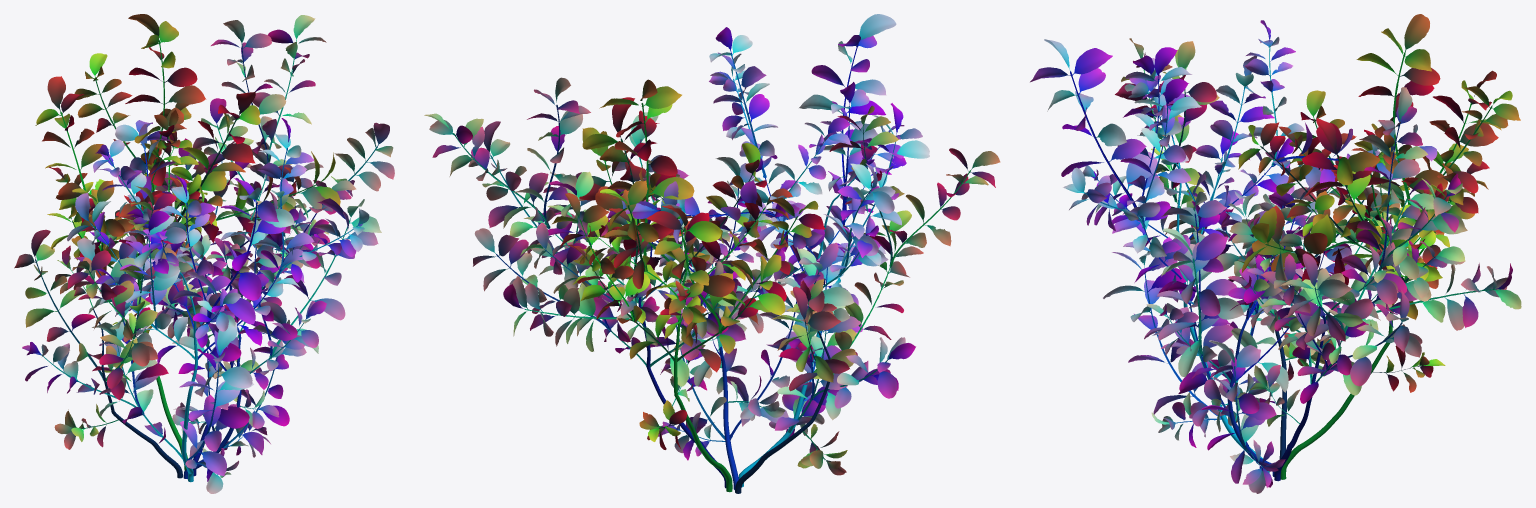
The model's file is European_Spindle_wk1ncbxja_Raw_wk1ncbxja_VarJ_LOD0.fbx.
The picture shows the model from 3 angles, left to right: view 1: azimuth 30°, elevation 25°; view 2: azimuth 150°, elevation 25°; view 3: azimuth 270°, elevation 25°; orthographic projection. The views are drawn at different scales.
Visible parts, largest first — view 1: _sk6y_VarJ_High; view 2: _sk6y_VarJ_High; view 3: _sk6y_VarJ_High.
Boxes of the visible parts, x1,y1,x2,y2 form: _sk6y_VarJ_High: [14, 14, 394, 493]; _sk6y_VarJ_High: [424, 14, 1000, 493]; _sk6y_VarJ_High: [1030, 14, 1521, 493].
Size of the model in its own units: 157 by 158 by 149.
